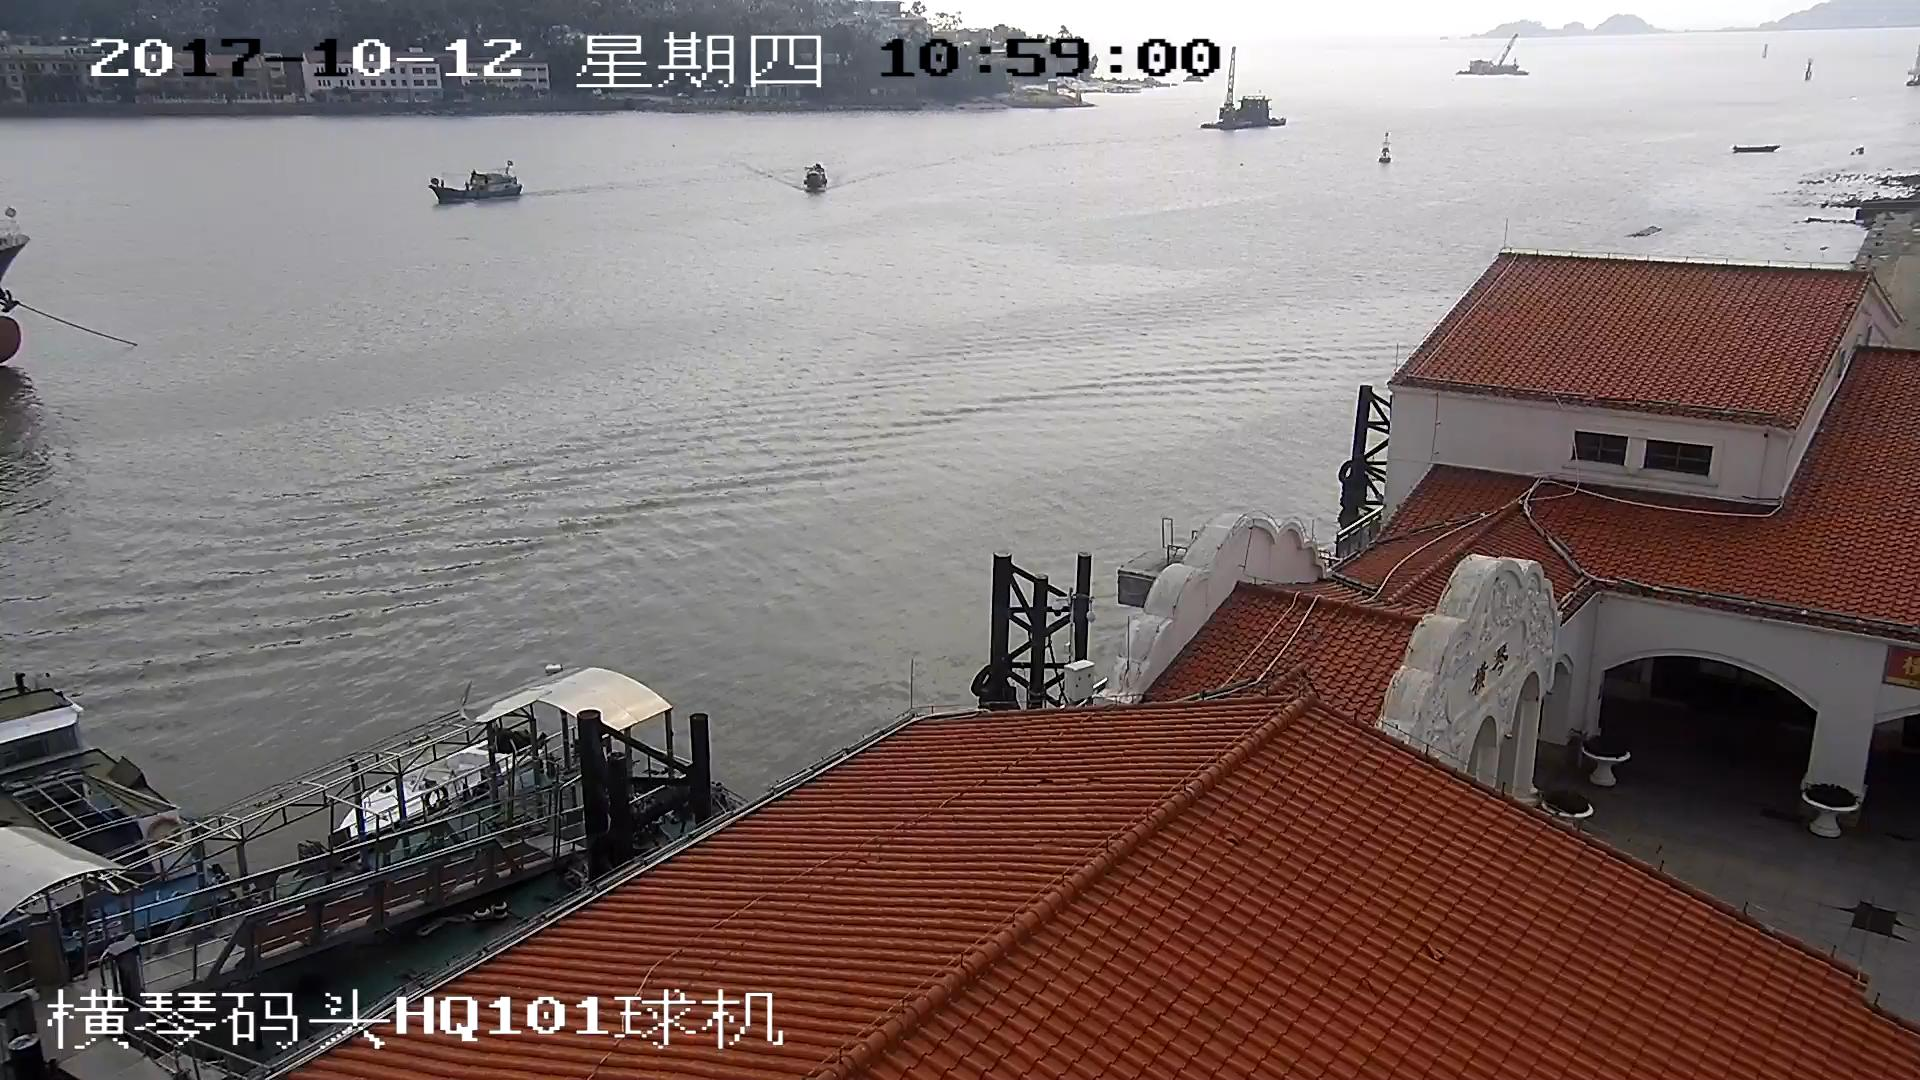fishing boat: (429, 167, 520, 201)
